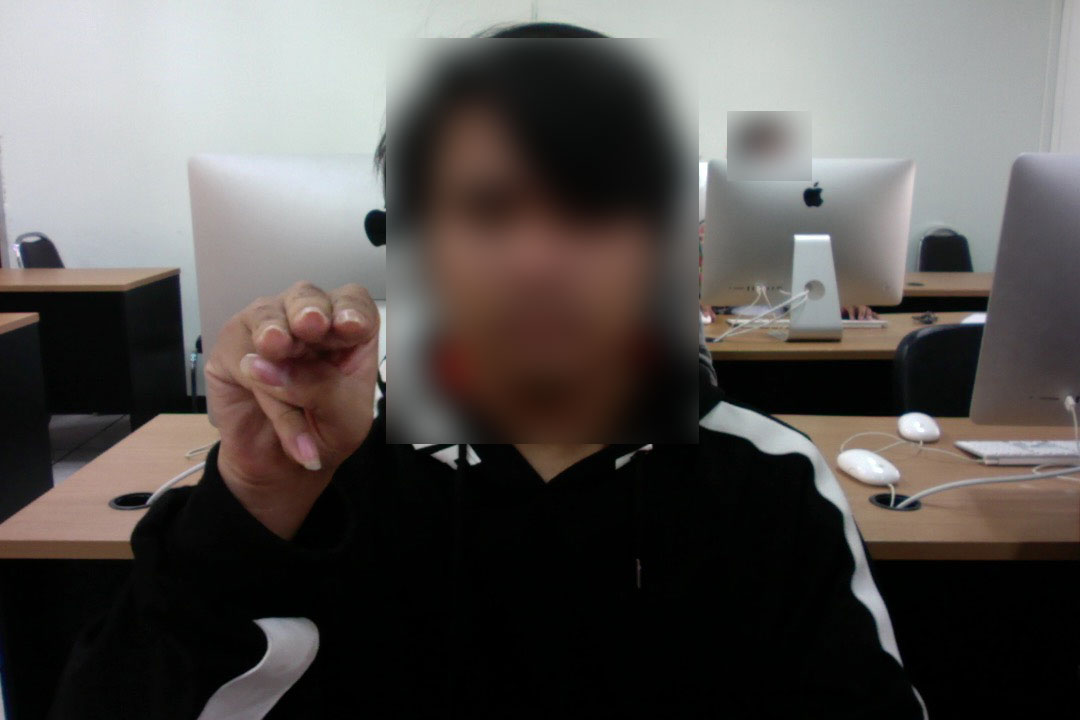mor: (204, 261, 385, 492)
